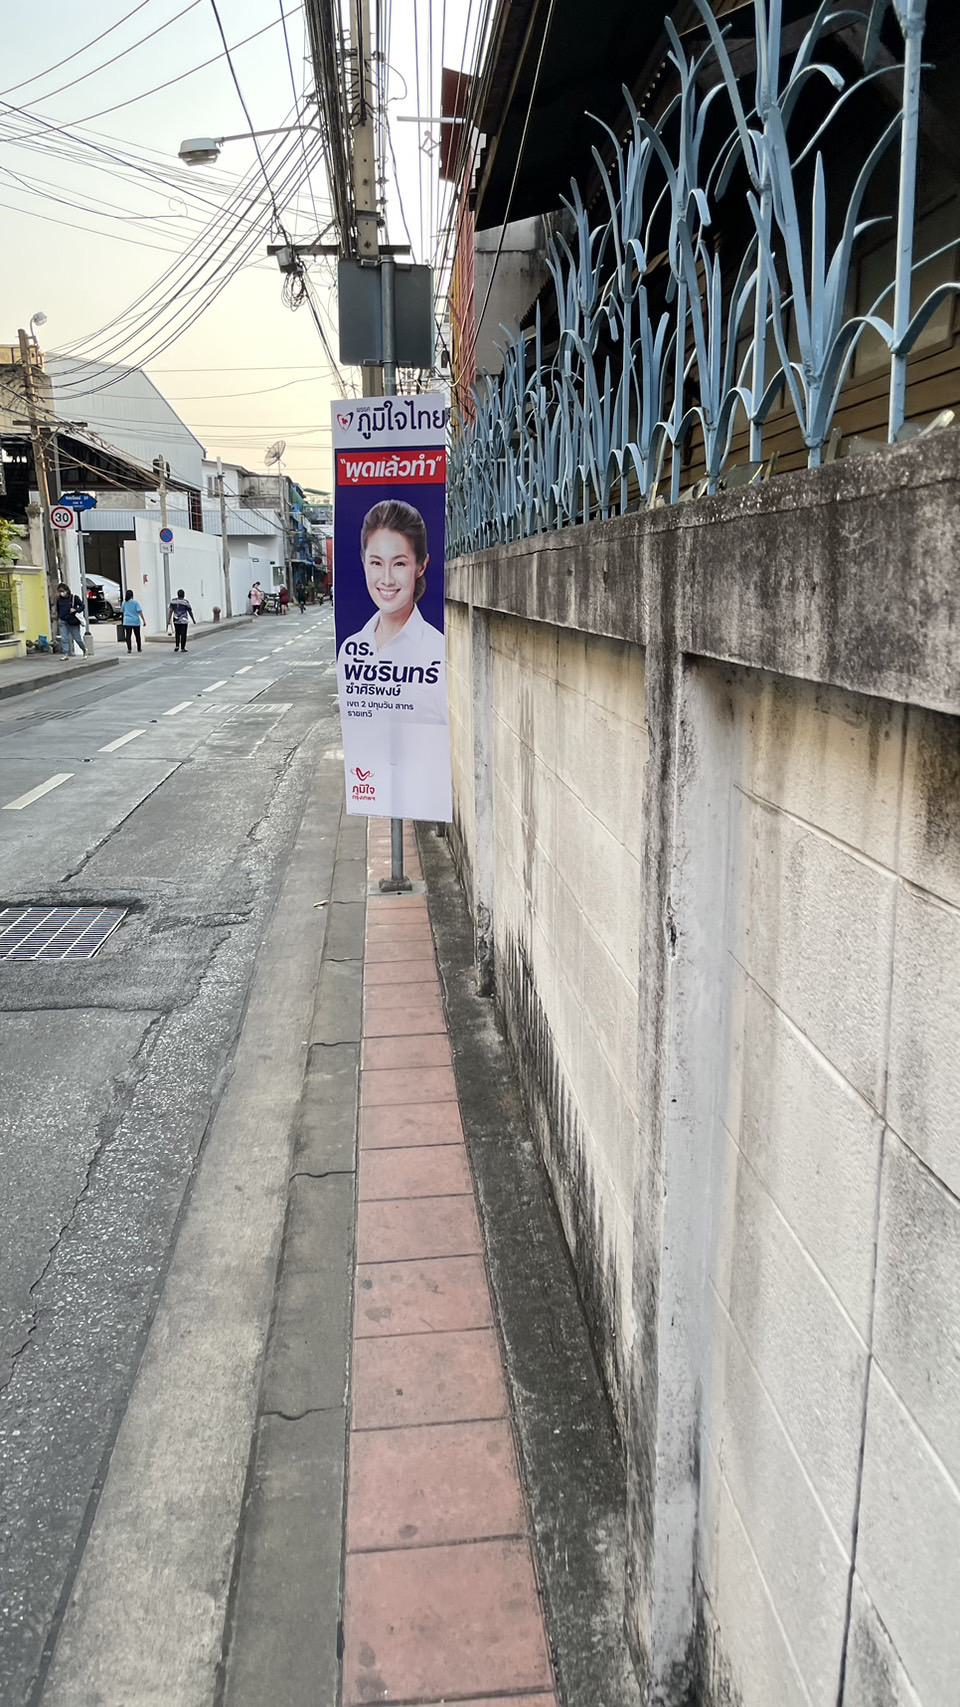Banner: (324, 390, 467, 827)
